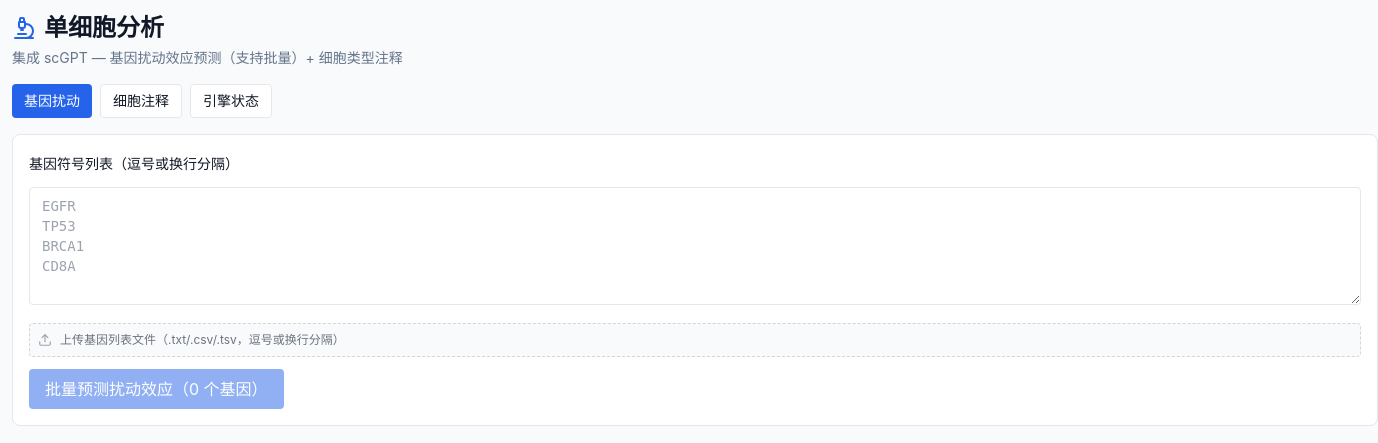
CellsPage › 切换到细胞注释 Tab 显示提示文字
The width and height of the screenshot is (1378, 443).
Step 1. Click the button "细胞注释" → [141, 101], box [100,84,182,118]
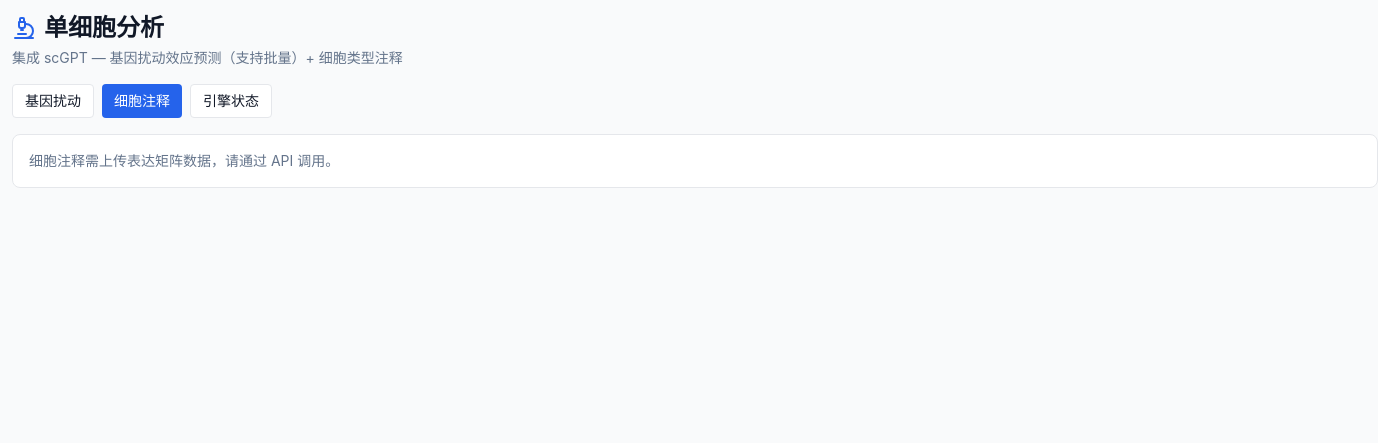
Result: the text "细胞注释需上传表达矩阵数据，请通过 API 调用。" is shown at [29,152,339,169]
